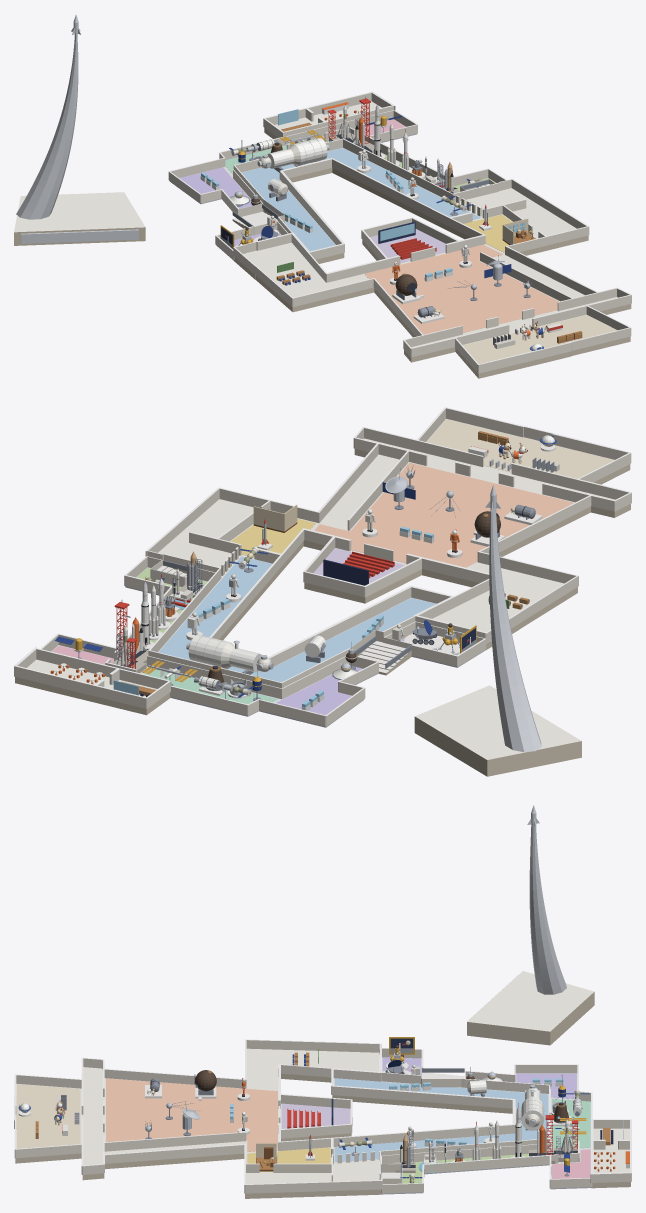
Rendered from kosmo_map.glb.
The picture shows the model from 3 angles, top to bottom: view 1: azimuth 30°, elevation 25°; view 2: azimuth 150°, elevation 25°; view 3: azimuth 270°, elevation 25°; orthographic projection. The views are drawn at different scales.
Parts seen in each view (by area): view 1: Walls_upper, Floor_upper, LM_monument, Zone_utro, Walls_lower, Zone_dom, Zone_vest, EX_36, Zone_luna, AM_kino.001, Zone_tvortsy, Zone_kino (+6 smaller); view 2: Walls_upper, Floor_upper, LM_monument, Zone_utro, Walls_lower, Zone_dom, Zone_vest, EX_36, AM_kino.001, Zone_luna, Zone_tvortsy, Stairs_L (+12 smaller); view 3: Walls_upper, Floor_upper, LM_monument, Zone_utro, Walls_lower, Zone_vest, Zone_dom, Zone_kino, Zone_luna, Zone_mezhdu, Zone_tvortsy, EX_36 (+6 smaller).
Boxes of the visible parts, <box> form: Walls_upper: <box>233,91,631,373</box>; Floor_upper: <box>234,101,631,378</box>; LM_monument: <box>14,14,145,245</box>; Zone_utro: <box>364,244,558,334</box>; Walls_lower: <box>168,110,506,259</box>; Zone_dom: <box>242,148,480,251</box>; Zone_vest: <box>463,315,616,363</box>; EX_36: <box>257,137,329,172</box>; Zone_luna: <box>179,167,280,246</box>; AM_kino.001: <box>378,221,436,259</box>; Zone_tvortsy: <box>464,214,512,252</box>; Zone_kino: <box>370,229,445,263</box>; Walls_upper: <box>14,407,631,708</box>; Floor_upper: <box>15,418,630,715</box>; LM_monument: <box>414,485,581,776</box>; Zone_utro: <box>314,462,573,567</box>; Walls_lower: <box>40,556,486,726</box>; Zone_dom: <box>158,556,435,682</box>; Zone_vest: <box>427,419,614,478</box>; EX_36: <box>186,634,273,674</box>; AM_kino.001: <box>323,551,394,585</box>; Zone_luna: <box>276,638,459,715</box>; Zone_tvortsy: <box>231,518,315,557</box>; Stairs_L: <box>354,636,411,675</box>; Walls_upper: <box>14,1039,631,1193</box>; Floor_upper: <box>15,1048,630,1198</box>; LM_monument: <box>467,805,594,1045</box>; Zone_utro: <box>106,1078,277,1151</box>; Walls_lower: <box>380,1048,592,1193</box>; Zone_vest: <box>16,1084,80,1148</box>; Zone_dom: <box>334,1078,548,1162</box>; Zone_kino: <box>281,1103,350,1128</box>; Zone_luna: <box>382,1057,576,1098</box>; Zone_mezhdu: <box>552,1098,590,1149</box>; Zone_tvortsy: <box>247,1147,330,1171</box>; EX_36: <box>521,1085,544,1130</box>.
Bounding box in the file's own units: 107 × 49.4 × 130.
